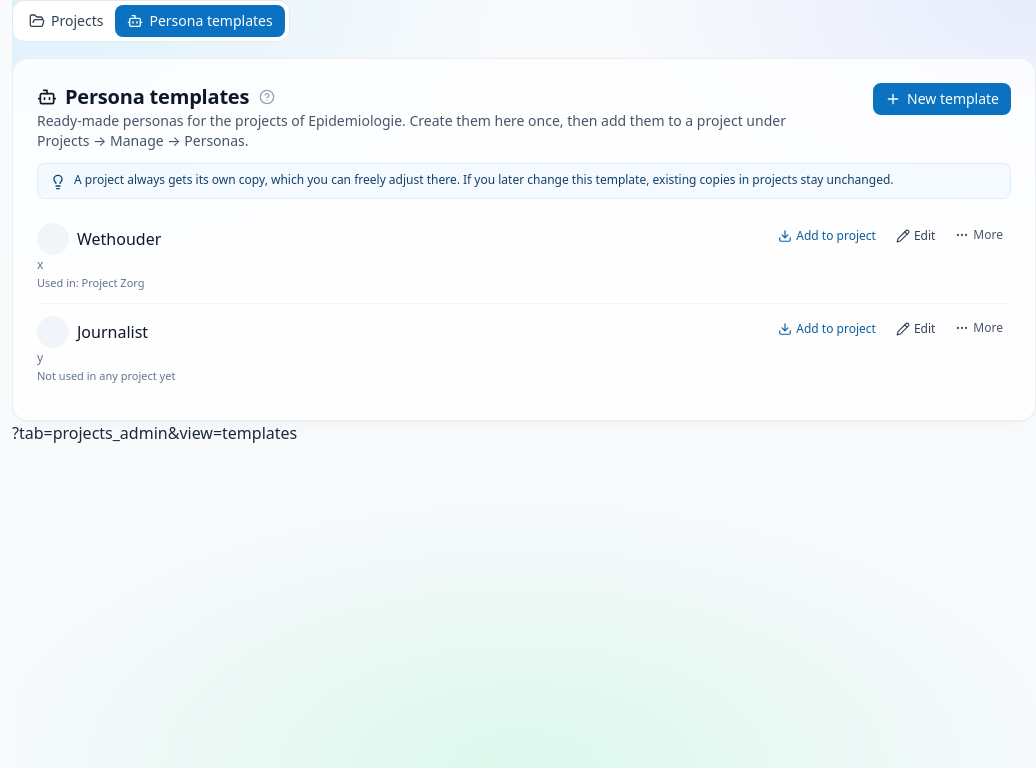
Test: Projecten → Persona-sjablonen › ?view=templates opent de sjablonen met "gebruikt in" per sjabloon; docent mag bewerken
Check: the text with test id "text-cp-usage-tpl1" shows "Project Zorg", box [37, 275, 144, 290]
Check: the element with test id "text-cp-usage-tpl2" does not show "Project Zorg"
Terug naar de projecten haalt view uit de link.
Click the tab with test id "tab-projects-view-projects".
click(66, 21)  # box [17, 5, 115, 37]
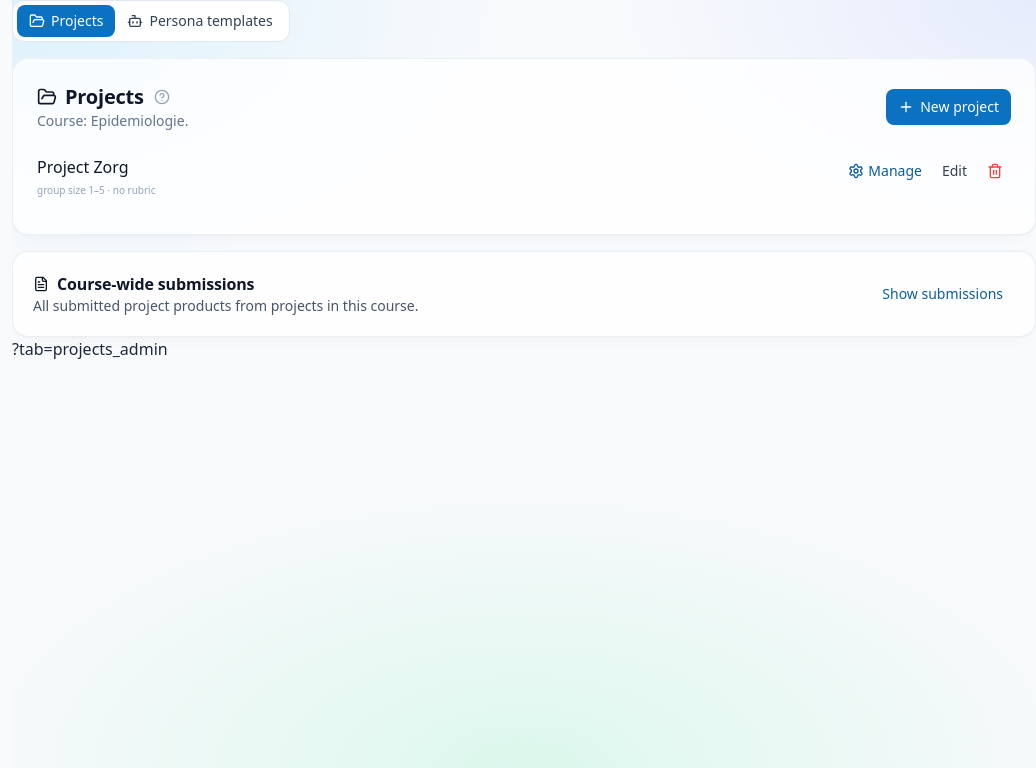
Check: the text with test id "location" no longer shows "view="
